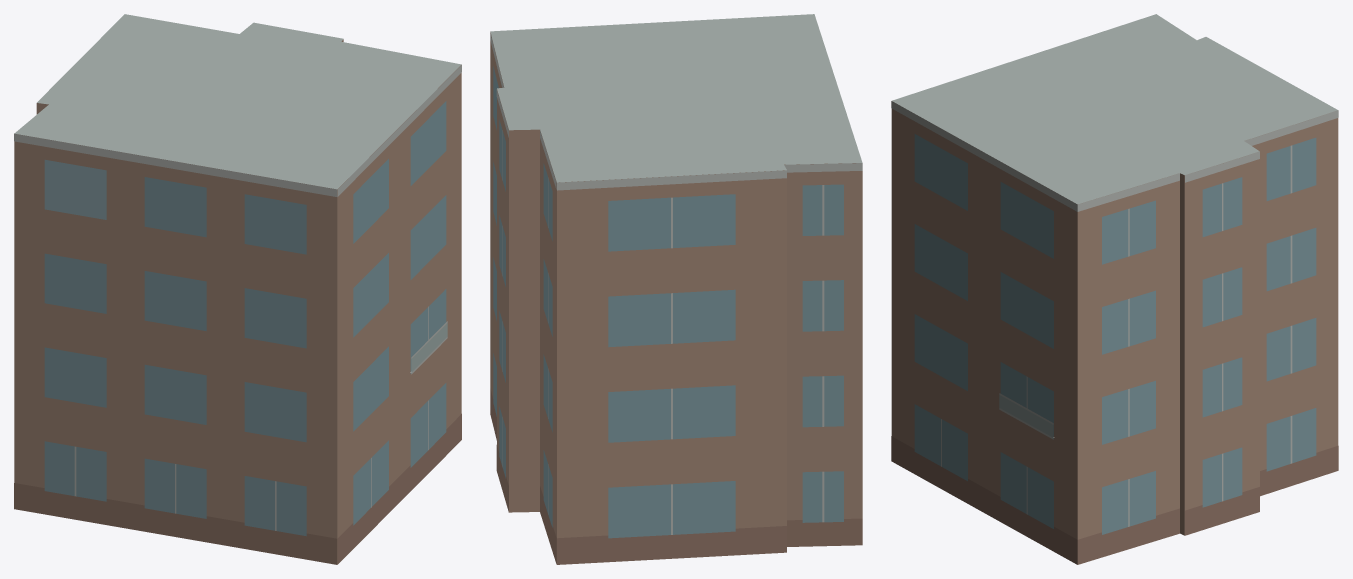
The model's file is survey-upis-32774863.glb.
The picture shows the model from 3 angles, left to right: view 1: azimuth 30°, elevation 25°; view 2: azimuth 150°, elevation 25°; view 3: azimuth 270°, elevation 25°; orthographic projection. The views are drawn at different scales.
Parts seen in each view (by area): view 1: survey-upis-32774863.tmp; view 2: survey-upis-32774863.tmp; view 3: survey-upis-32774863.tmp.
Boxes of the visible parts, <box> form: survey-upis-32774863.tmp: <box>14,14,461,564</box>; survey-upis-32774863.tmp: <box>490,14,862,564</box>; survey-upis-32774863.tmp: <box>891,14,1338,564</box>.
Bounding box in the file's own units: 13.27 × 11.7 × 13.16.
